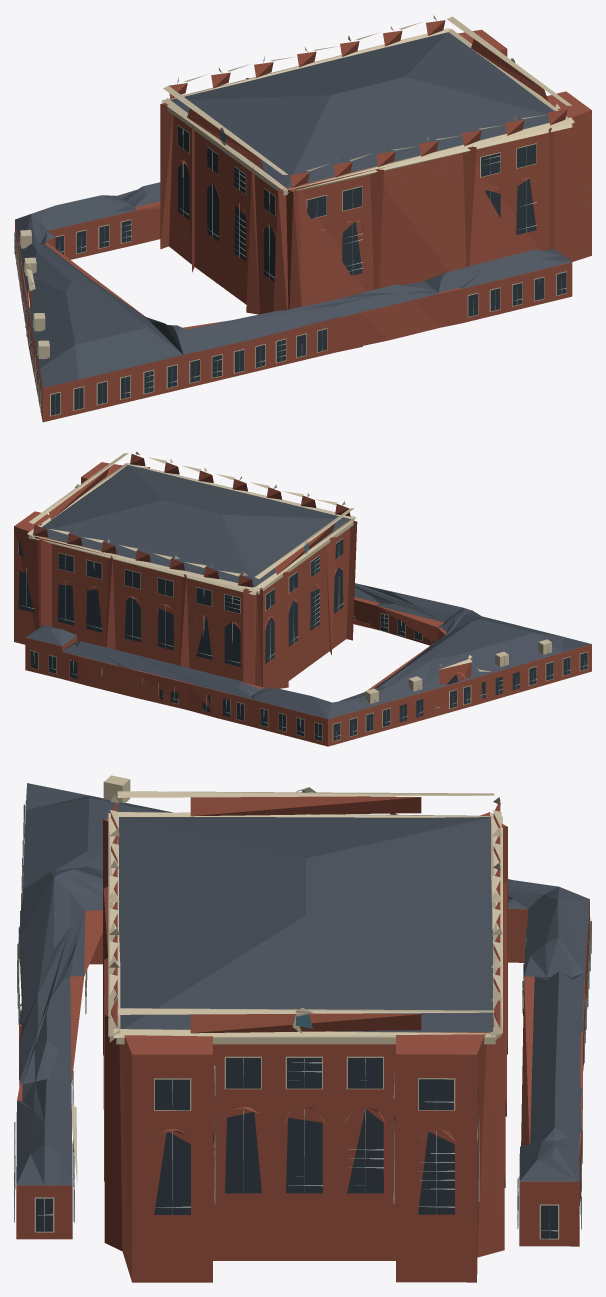
Rendered from portuguese-synagogue.lod1.glb.
3 renders of one model, top to bottom at view 1: azimuth 30°, elevation 25°; view 2: azimuth 150°, elevation 25°; view 3: azimuth 270°, elevation 25°, orthographic. The views are drawn at different scales.
Visible parts, largest first — view 1: portuguese-synagogue; view 2: portuguese-synagogue; view 3: portuguese-synagogue.
Part boxes in pixels (bbox=[...]): portuguese-synagogue: bbox=[14, 15, 591, 422]; portuguese-synagogue: bbox=[14, 451, 591, 746]; portuguese-synagogue: bbox=[14, 775, 591, 1282].
Size of the model in its own units: 80.25 by 22.35 by 43.89.
